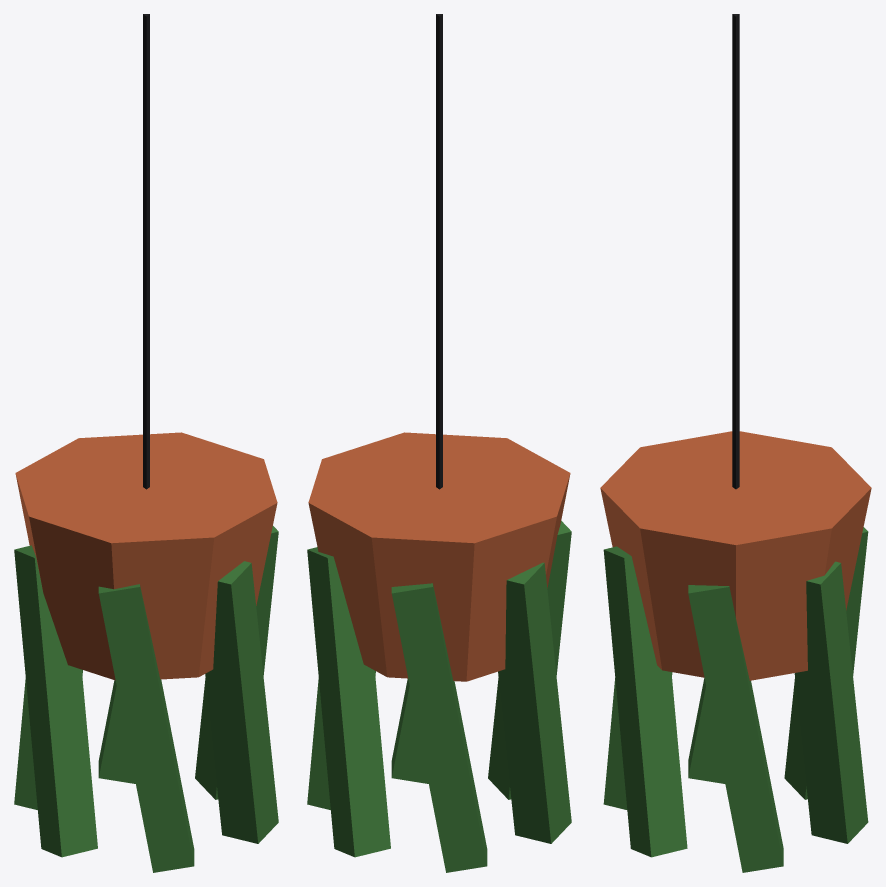
File: GD_HangingPlant_01.glb
3 renders of one model, left to right at view 1: azimuth 30°, elevation 25°; view 2: azimuth 150°, elevation 25°; view 3: azimuth 270°, elevation 25°, orthographic.
Visible parts, largest first — view 1: GD_HangingPlant_01; view 2: GD_HangingPlant_01; view 3: GD_HangingPlant_01.
Boxes of the visible parts, x1=… form: GD_HangingPlant_01: x1=14, y1=14, x2=278, y2=872; GD_HangingPlant_01: x1=307, y1=14, x2=571, y2=872; GD_HangingPlant_01: x1=600, y1=14, x2=871, y2=872.
Size of the model in its own units: 0.26 by 0.8512 by 0.26.
1 material, 1 textured.
